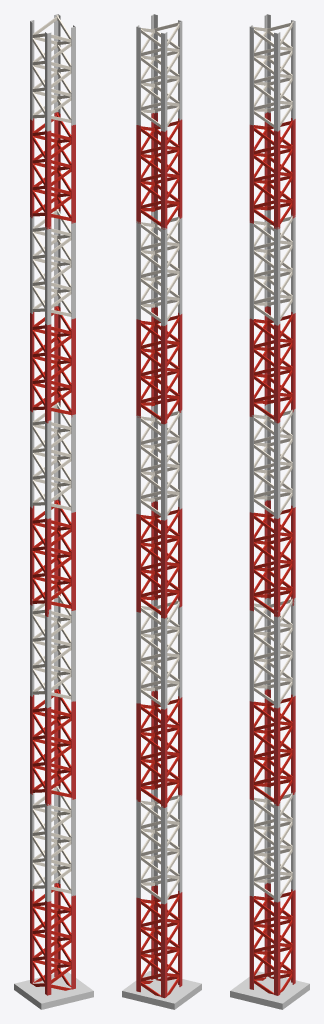
Rendered from towerr.fbx.
3 views of the same model, side by side, from view 1: azimuth 30°, elevation 25°; view 2: azimuth 150°, elevation 25°; view 3: azimuth 330°, elevation 25° (orthographic).
Visible parts, largest first — view 1: Cube.025, Cube; view 2: Cube.025, Cube; view 3: Cube.025, Cube.
Boxes of the visible parts, x1,y1,x2,y2 form: Cube.025: (30,14,75,995); Cube: (14,972,93,1009); Cube.025: (136,14,182,998); Cube: (122,971,201,1009); Cube.025: (249,14,295,995); Cube: (230,971,309,1009).
Size of the model in its own units: 3.09 by 54.62 by 2.79.
